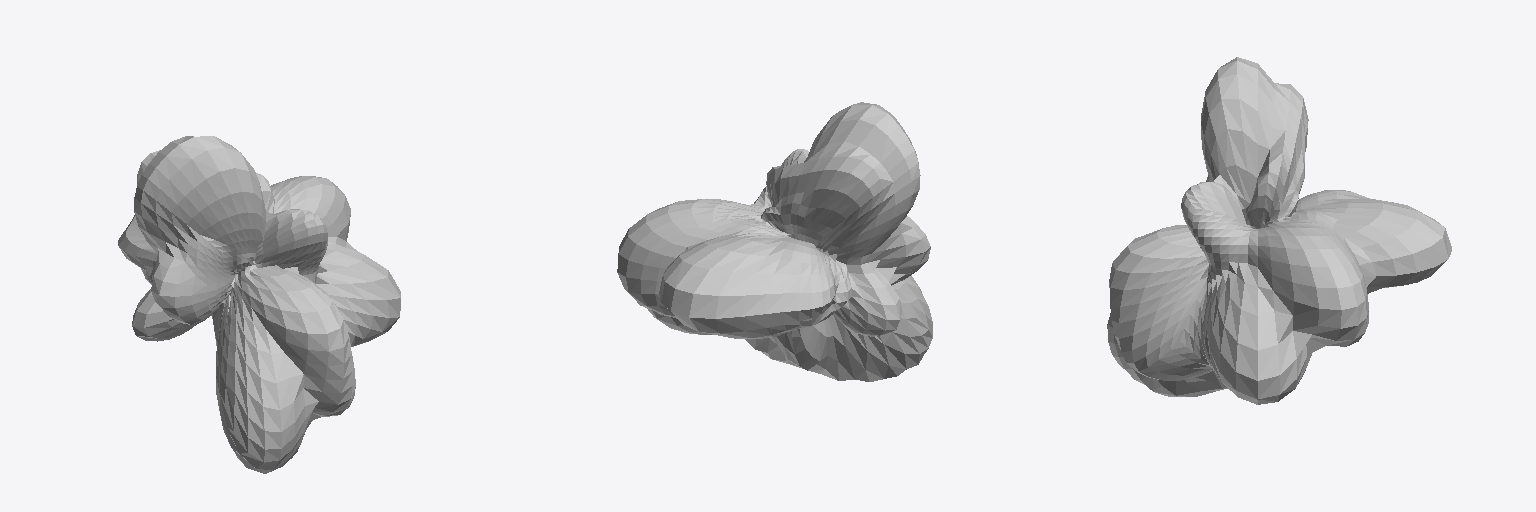
File: mollykka.obj
3 renders of one model, left to right at view 1: azimuth 30°, elevation 25°; view 2: azimuth 150°, elevation 25°; view 3: azimuth 270°, elevation 25°, orthographic.
Visible parts, largest first — view 1: Cube_Cube.001; view 2: Cube_Cube.001; view 3: Cube_Cube.001.
Part boxes in pixels (bbox=[...]): Cube_Cube.001: bbox=[118, 136, 400, 473]; Cube_Cube.001: bbox=[617, 102, 932, 381]; Cube_Cube.001: bbox=[1107, 57, 1451, 404].
Bounding box in the file's own units: 4.25 × 4.72 × 4.75.